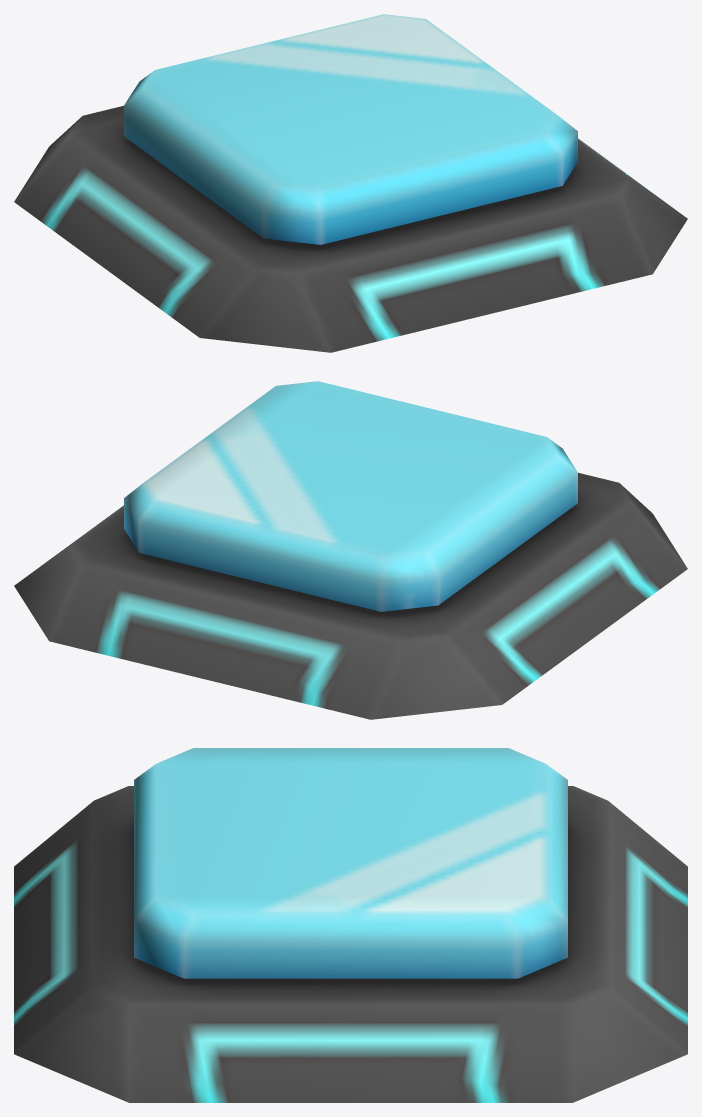
The model's file is Switch.fbx.
3 views of the same model, one above another, from view 1: azimuth 30°, elevation 25°; view 2: azimuth 150°, elevation 25°; view 3: azimuth 270°, elevation 25° (orthographic). The views are drawn at different scales.
Parts seen in each view (by area): view 1: Switch; view 2: Switch; view 3: Switch.
Part boxes in pixels (left/top/right/bottom): Switch: left=14, top=14, right=687, bottom=352; Switch: left=14, top=381, right=687, bottom=719; Switch: left=14, top=748, right=687, bottom=1102.
Size of the model in its own units: 3.8 by 0.8089 by 3.8.
Materials: 1 (1 with a texture image).
